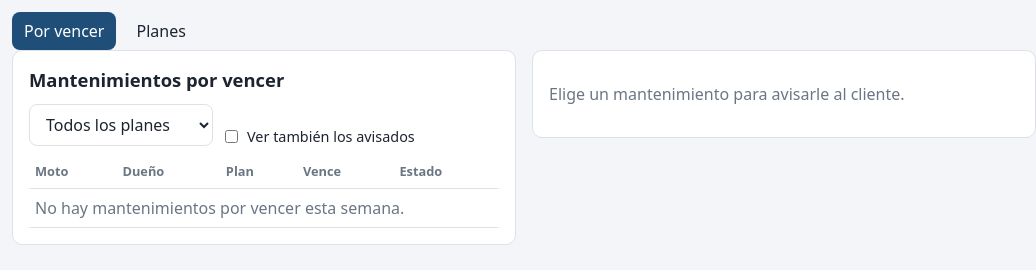
Test: pantalla Mantenimientos: planes › con los dos permisos se cambia de pestaña
Expected: the heading "Mantenimientos por vencer" is shown, [29,67,284,92]
Click the button "Planes".
click(161, 31)  # box [124,12,198,50]
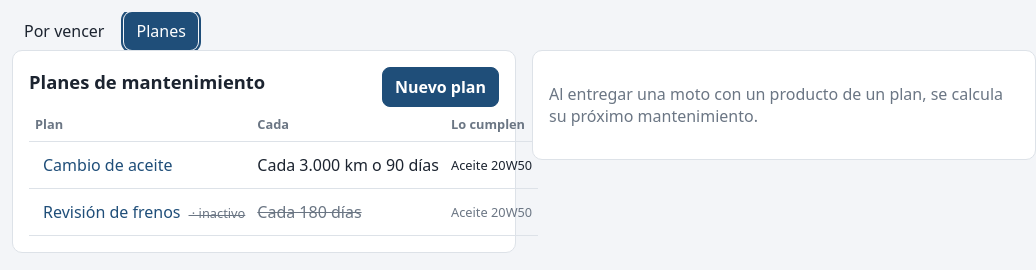
Now the heading "Planes de mantenimiento" is shown, box [29,68,265,94]
